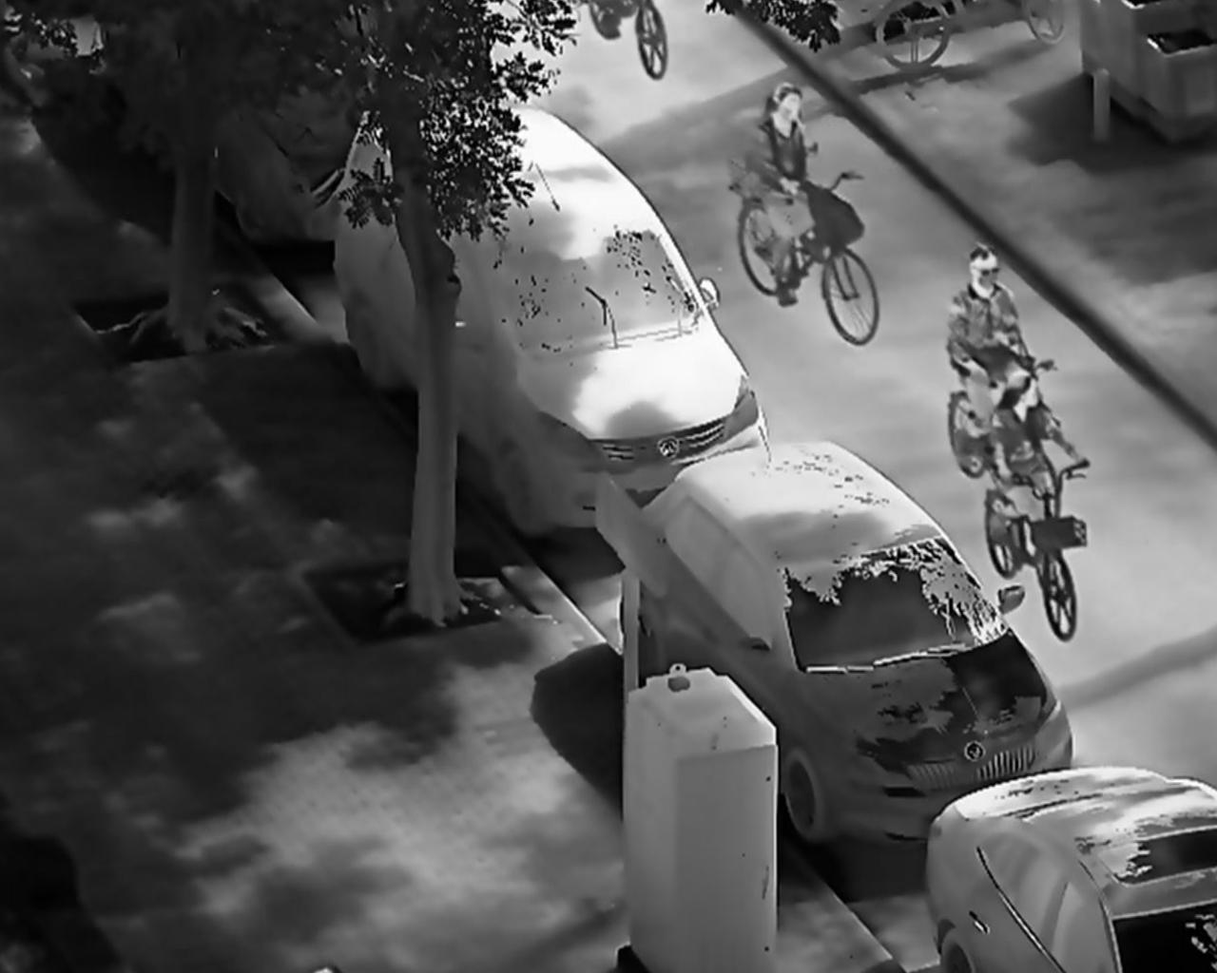person: (948, 238, 1050, 479), (742, 80, 833, 309), (986, 366, 1091, 563)
